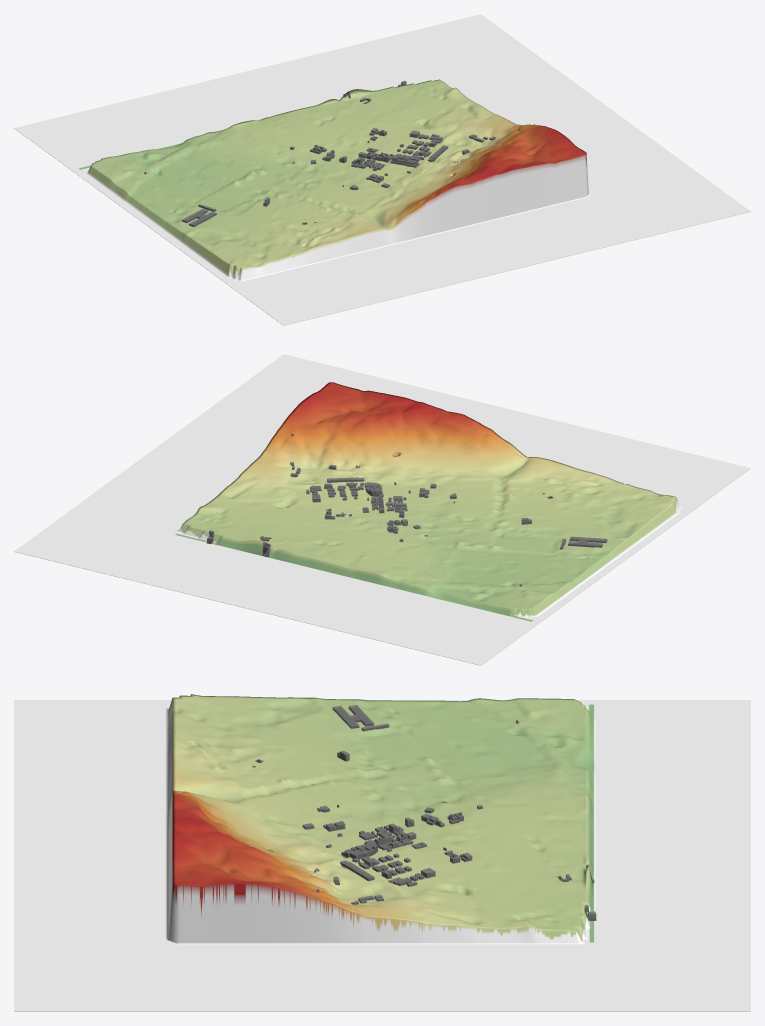
3 views of the same model, one above another, from view 1: azimuth 30°, elevation 25°; view 2: azimuth 150°, elevation 25°; view 3: azimuth 270°, elevation 25° (orthographic). The views are drawn at different scales.
Visible parts, largest first — view 1: DTM, 基地內既有建築; view 2: DTM, 基地內既有建築; view 3: DTM, 基地內既有建築, side.
Part boxes in pixels (<box>): DTM: <box>14,14,750,325</box>; 基地內既有建築: <box>144,81,520,226</box>; DTM: <box>14,354,750,665</box>; 基地內既有建築: <box>207,433,607,586</box>; DTM: <box>14,694,750,1011</box>; 基地內既有建築: <box>253,705,596,920</box>; side: <box>14,1011,750,1011</box>.
Bounding box in the file's own units: 1059 × 93.15 × 1059.
3 materials, 1 textured.
